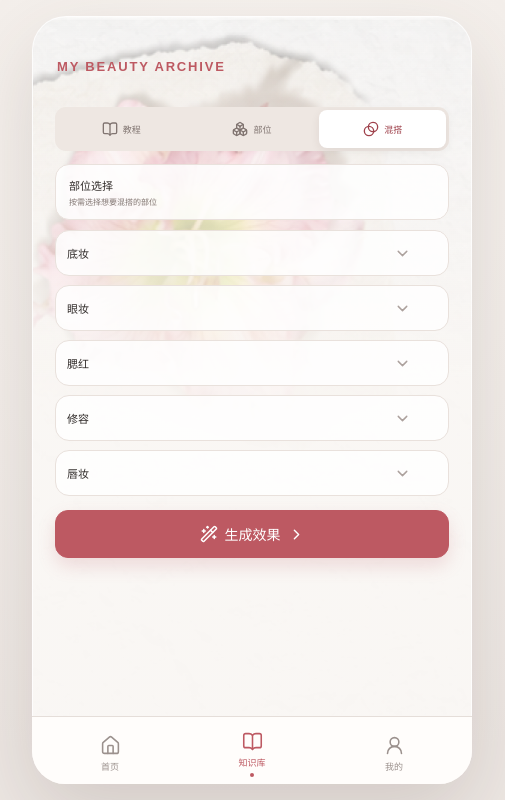
Test case: starts collapsed and treats untouched parts as skipped
Expected: the button "清透玫瑰眼妆" is not shown
Expected: the button "生成效果" is enabled, x1=55 y1=510 x2=449 y2=558
Click the button with aria-label "展开眼妆选项": (78, 309) x1=67 y1=286 x2=437 y2=330
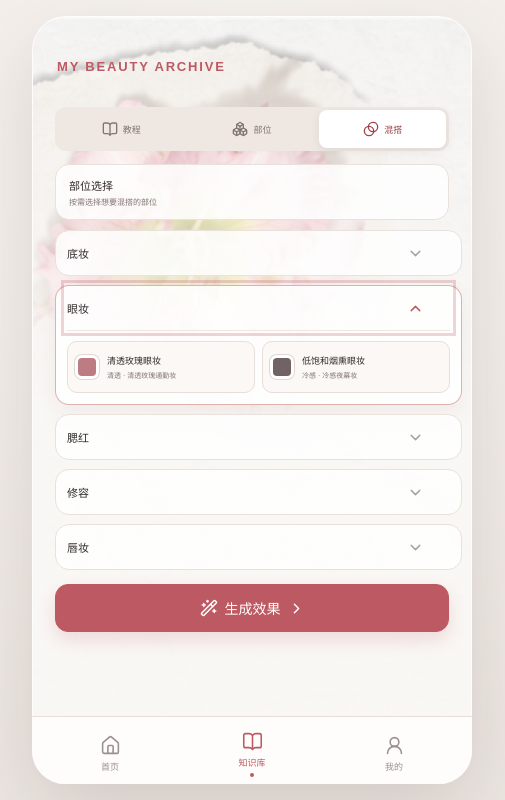
Expected: the button "清透玫瑰眼妆 清透 · 清透玫瑰通勤妆" is shown, x1=67 y1=341 x2=255 y2=393
Click the button with aria-label "收起眼妆选项": (78, 309) x1=67 y1=286 x2=450 y2=330
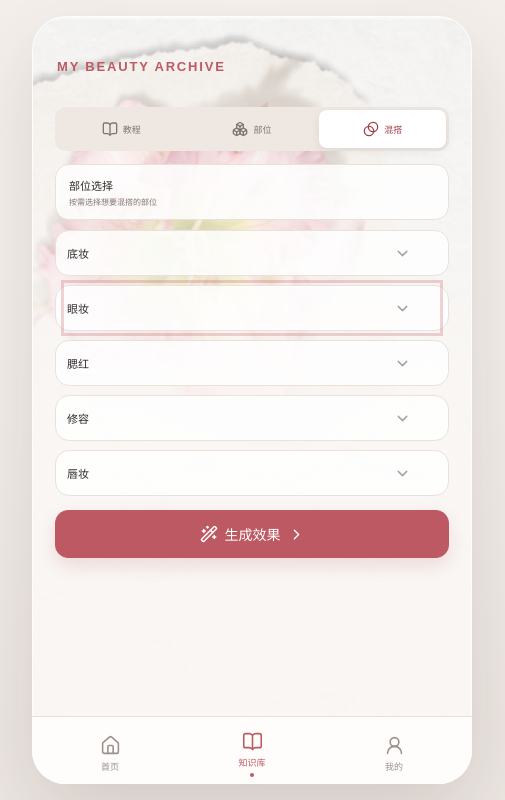
Expected: the button "清透玫瑰眼妆" is gone
